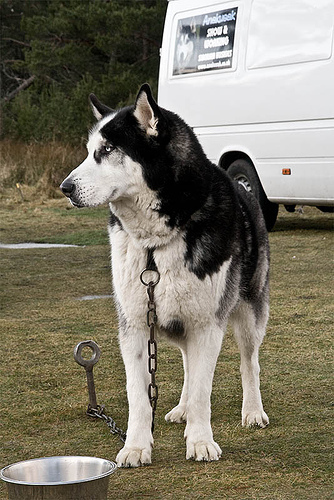dog: (58, 83, 270, 471)
